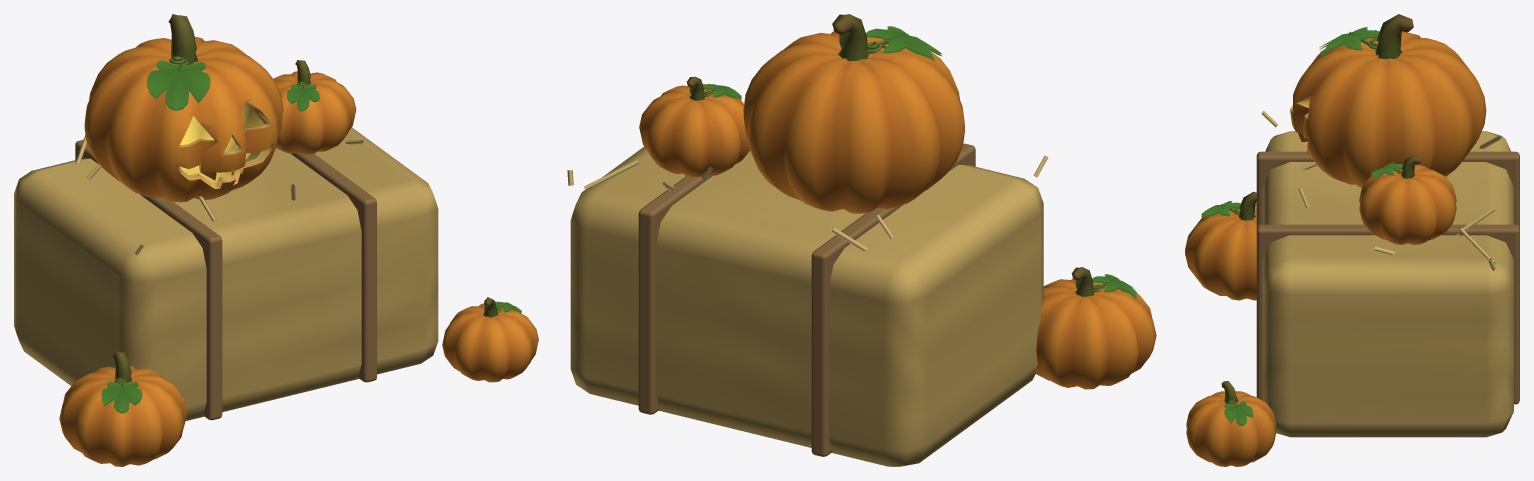
The model's file is jack_stack.glb.
3 renders of one model, left to right at view 1: azimuth 30°, elevation 25°; view 2: azimuth 150°, elevation 25°; view 3: azimuth 270°, elevation 25°, orthographic. The views are drawn at different scales.
Parts seen in each view (by area): view 1: jack_stack_main, jack_stack_glow; view 2: jack_stack_main; view 3: jack_stack_main.
Part boxes in pixels (bbox=[...]): jack_stack_main: bbox=[14, 14, 538, 466]; jack_stack_glow: bbox=[180, 105, 264, 182]; jack_stack_main: bbox=[567, 14, 1156, 466]; jack_stack_main: bbox=[1185, 14, 1519, 466].
Size of the model in its own units: 1.29 by 0.9519 by 0.8524.
